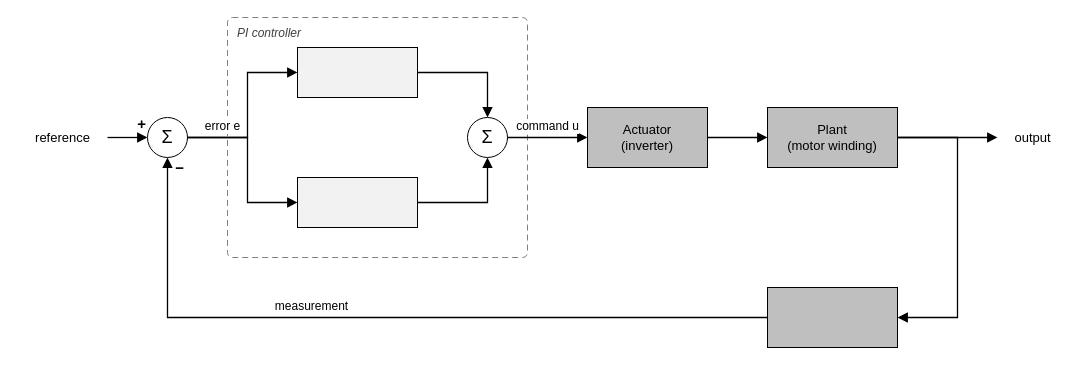
Image size: 1084x365. Some labels were removed from this diagram. Here are the shapes that lost their labels. From the top down, the centre of each, then its label:
At (357,72): "K p · e".
At (357,202): "K i · ∫ e dt".
At (832,317): "Sensor (current shunts)".
